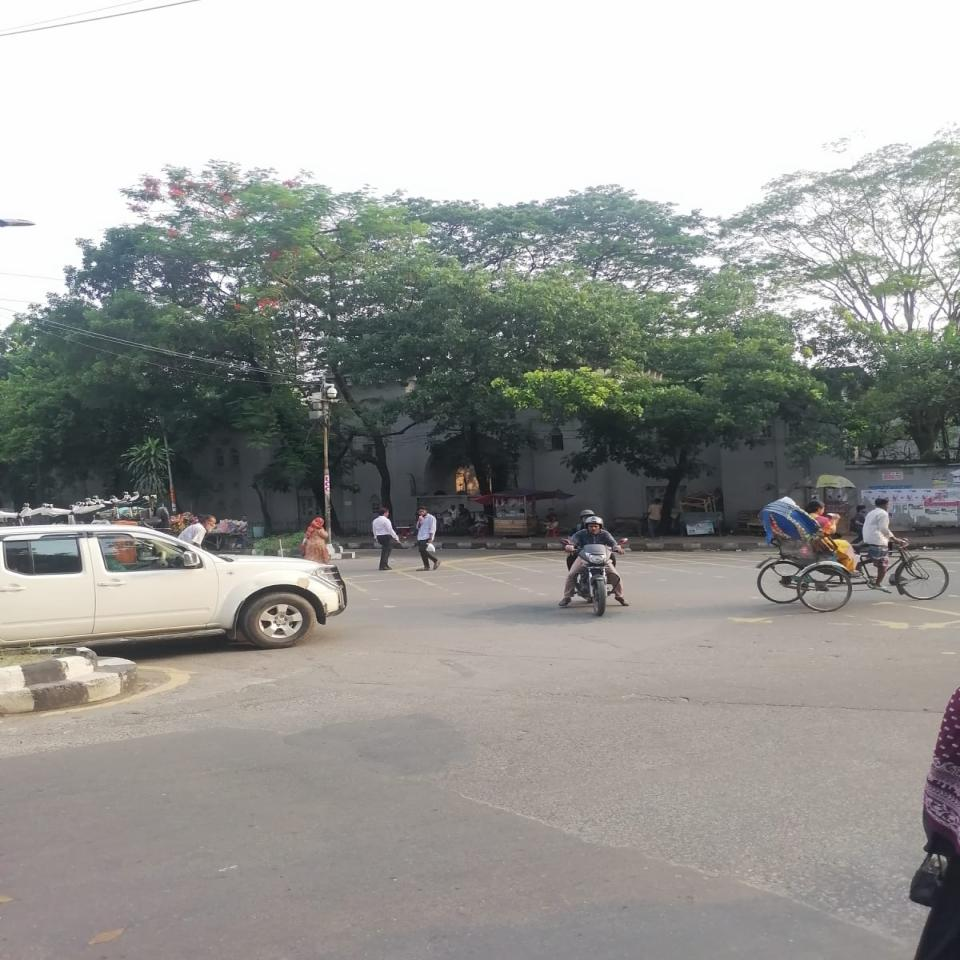person: (371, 508, 400, 571), (416, 507, 441, 571), (301, 517, 330, 564)
